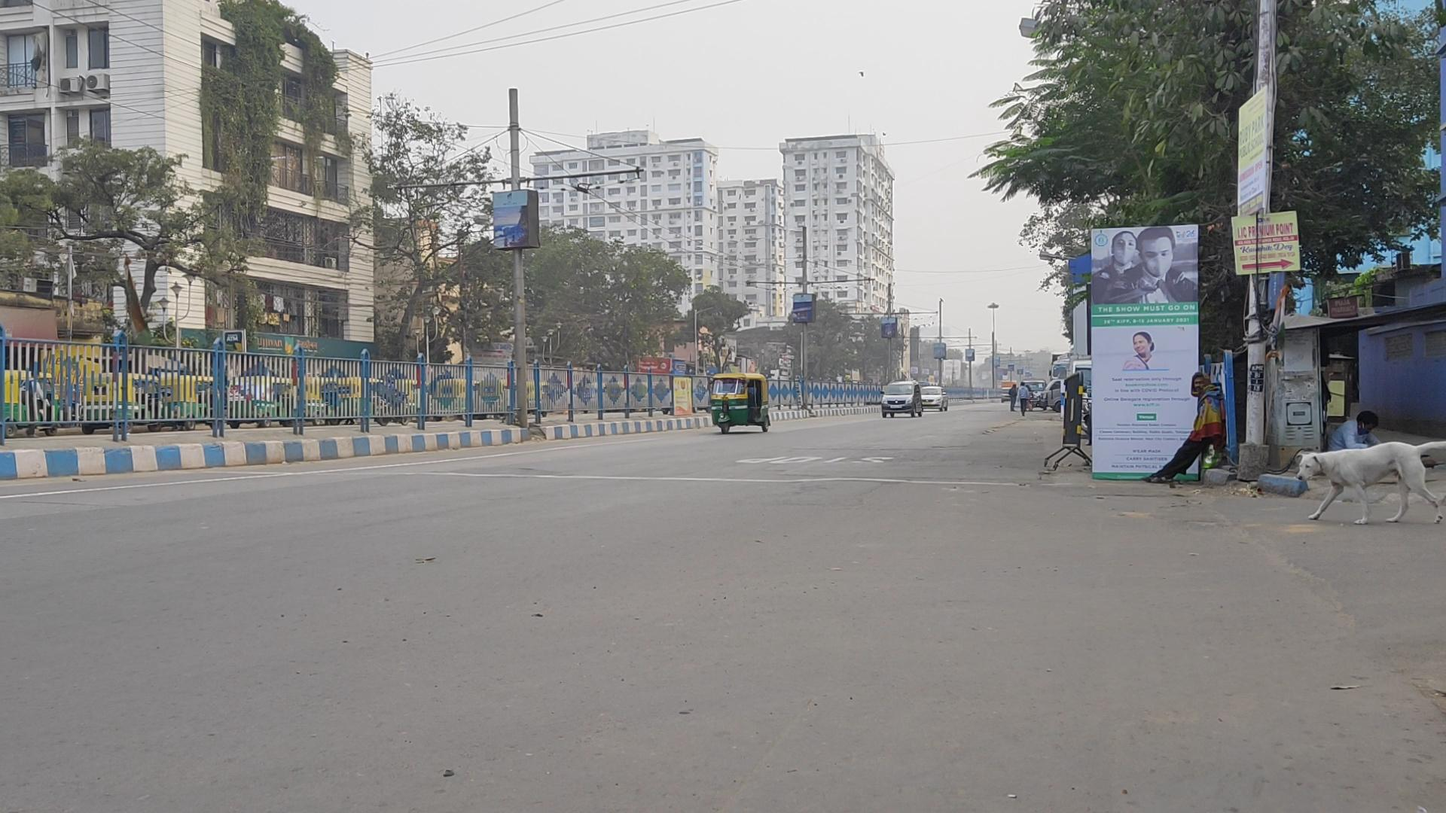Auto: (710, 373, 771, 434)
car: (881, 380, 922, 418), (1020, 378, 1047, 411)
van: (920, 385, 948, 412), (1001, 380, 1017, 403)
